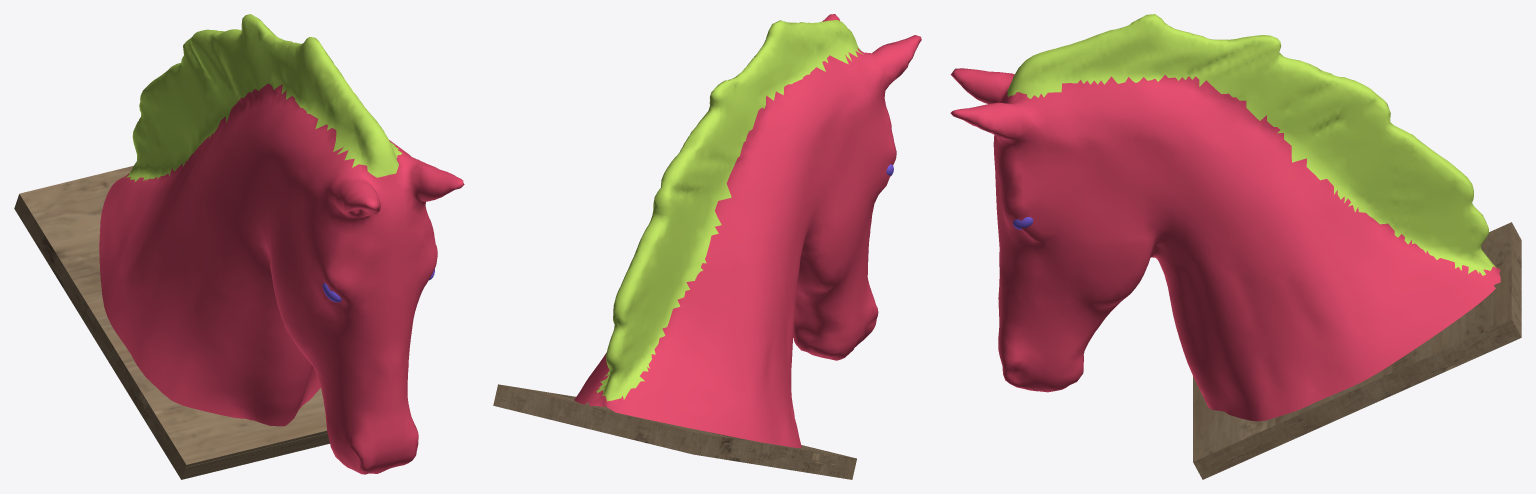
File: Calvalry.fbx
3 renders of one model, left to right at view 1: azimuth 30°, elevation 25°; view 2: azimuth 150°, elevation 25°; view 3: azimuth 270°, elevation 25°, orthographic. The views are drawn at different scales.
Visible parts, largest first — view 1: Calvalry; view 2: Calvalry; view 3: Calvalry.
Part boxes in pixels (x1,y1,x2,y2): Calvalry: [14, 14, 464, 479]; Calvalry: [493, 14, 921, 479]; Calvalry: [950, 14, 1521, 479].
Size of the model in its own units: 286 by 568 by 706.
